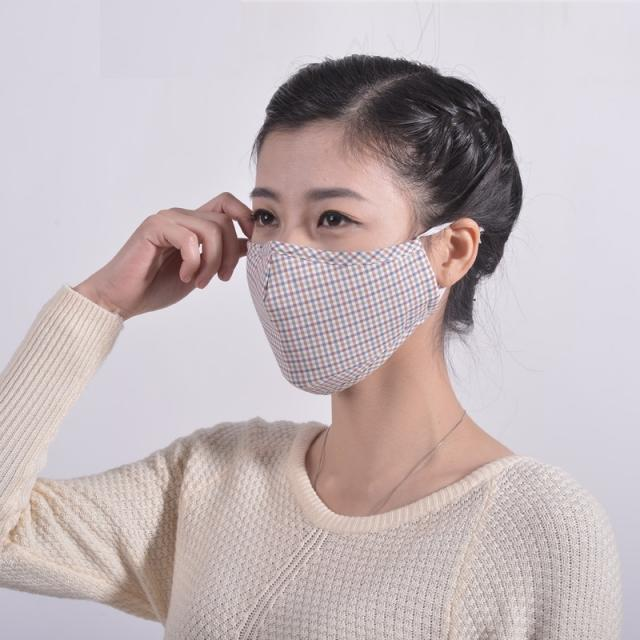mask: (249, 120, 423, 374)
